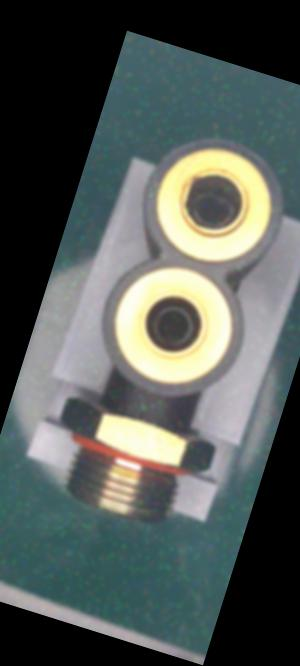craze: (133, 404, 151, 426)
off-centered: (183, 184, 247, 238)
